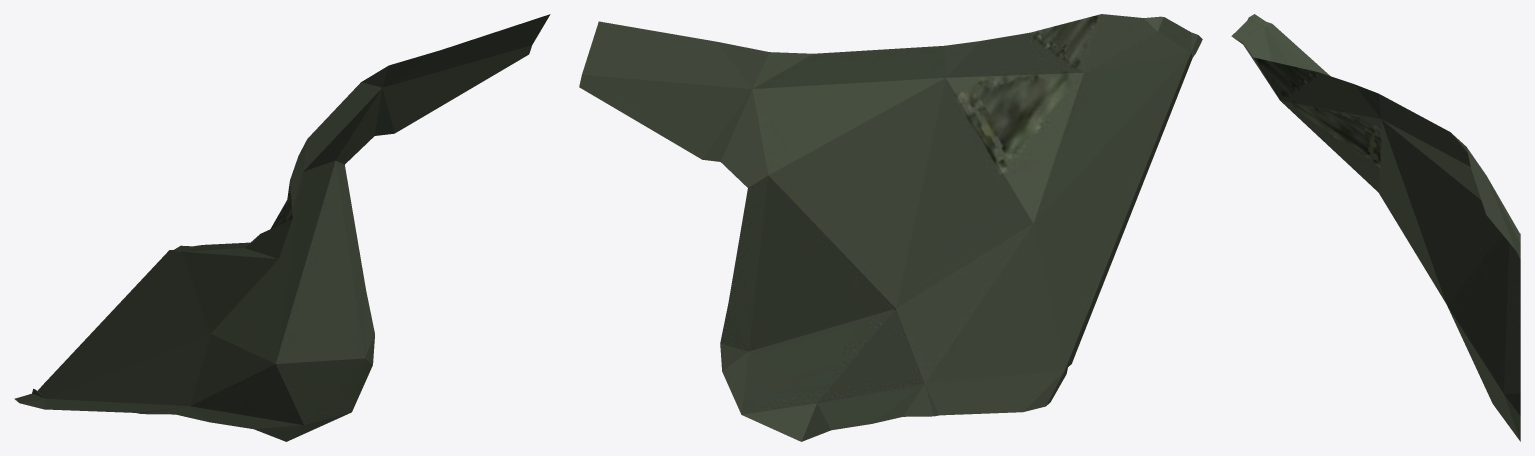
The picture shows the model from 3 angles, left to right: view 1: azimuth 30°, elevation 25°; view 2: azimuth 150°, elevation 25°; view 3: azimuth 270°, elevation 25°; orthographic projection. The views are drawn at different scales.
Bounding box in the file's own units: 5.9 × 4.21 × 3.59.
Materials: 2 (2 with a texture image).
